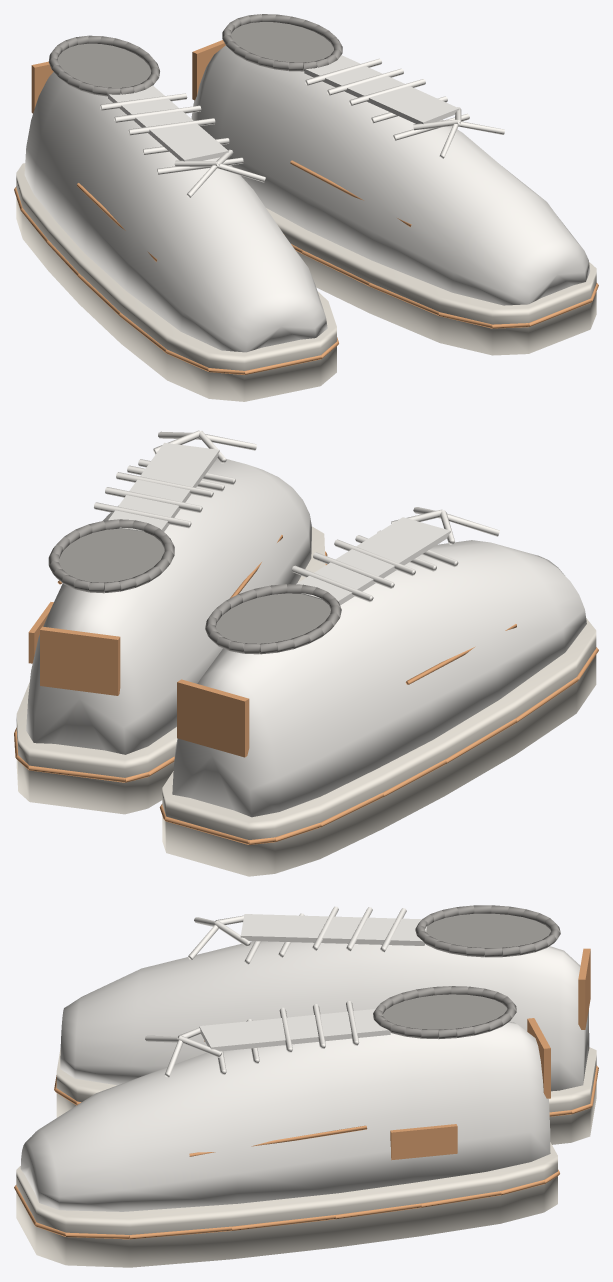
Rendered from sneakers-cream-rust-v1.glb.
The picture shows the model from 3 angles, top to bottom: view 1: azimuth 30°, elevation 25°; view 2: azimuth 150°, elevation 25°; view 3: azimuth 270°, elevation 25°; orthographic projection. The views are drawn at different scales.
Visible parts, largest first — view 1: oak-desk-chair; view 2: oak-desk-chair; view 3: oak-desk-chair.
Part boxes in pixels (x1,y1,x2,y2): oak-desk-chair: (14, 14, 598, 401); oak-desk-chair: (14, 430, 598, 876); oak-desk-chair: (14, 905, 598, 1267).
Bounding box in the file's own units: 0.2717 × 0.1157 × 0.3269.
